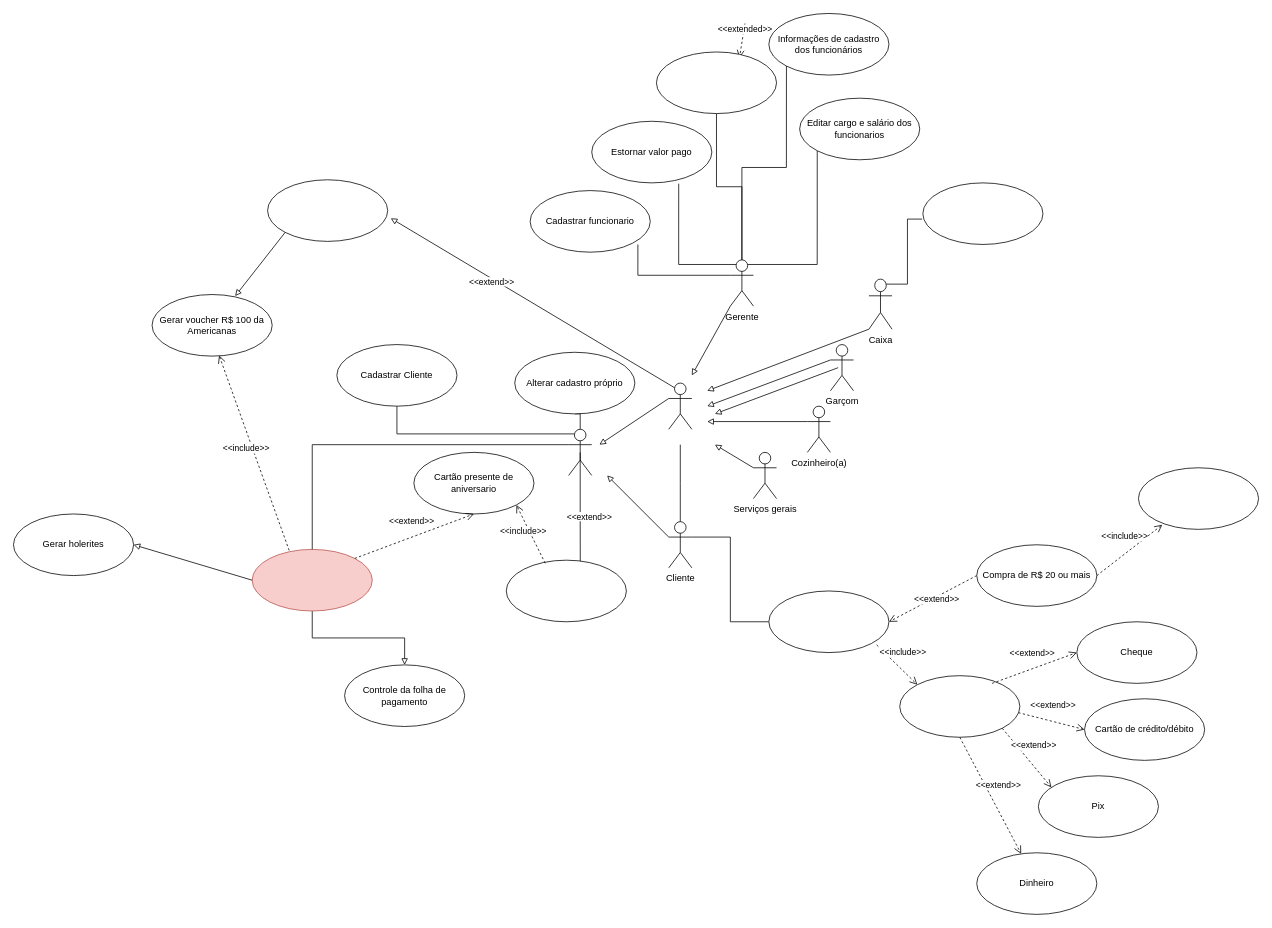
Some shapes in this 1272 by 928 pixel diagram are drawn without their labels. The shapes that lost their labels are listed below. From the top down, each one's centre as x and y in pixels, then its label:
At [716,82]: "Excluir cadastro de um usuário".
At [327,210]: "Faz aniversario de empresa".
At [982,213]: "Finalizar conta".
At [680,405]: "Funcionário".
At [580,452]: "Usuário".
At [1198,498]: "Programa de fidelidade".
At [311,580]: "Sistema do site".
At [566,590]: "Faz aniversario".
At [828,621]: "Compra".
At [959,706]: "Pagamento".
